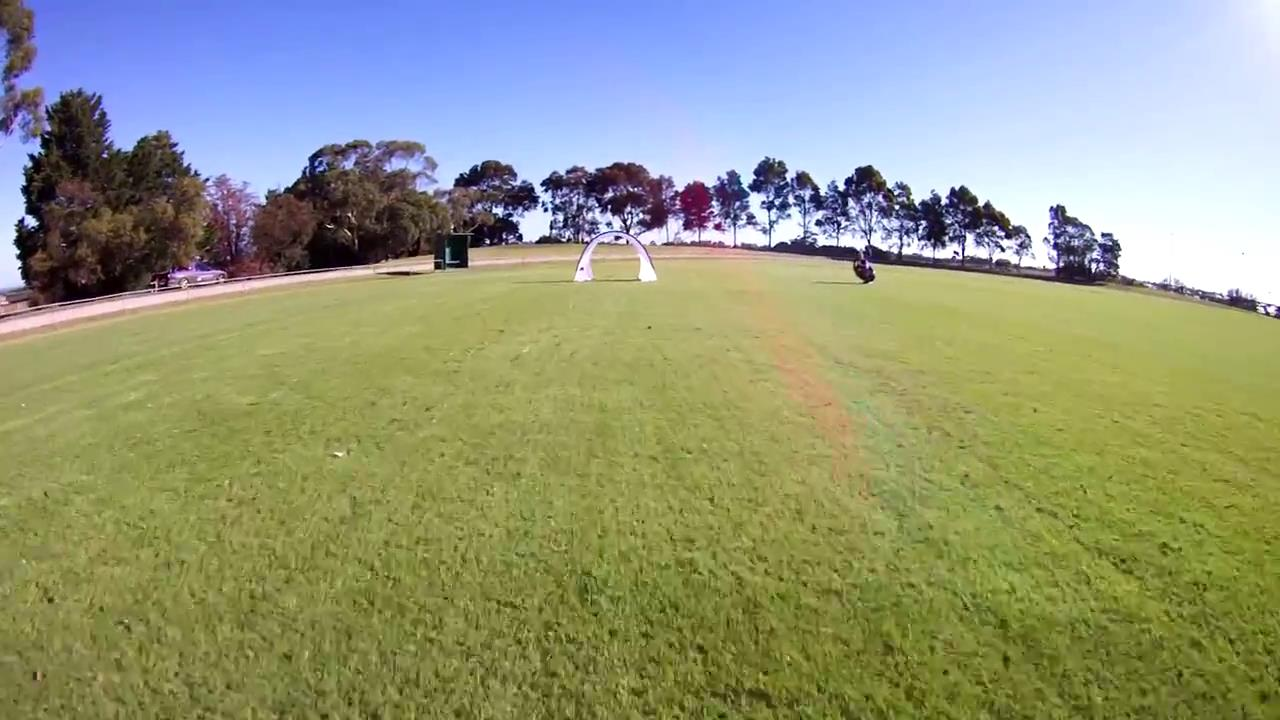gate: (573, 229, 660, 285)
